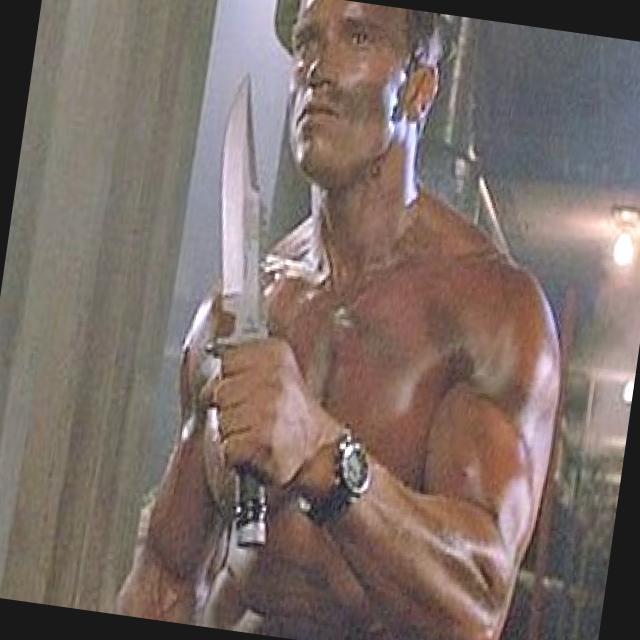knife: (167, 50, 326, 468)
